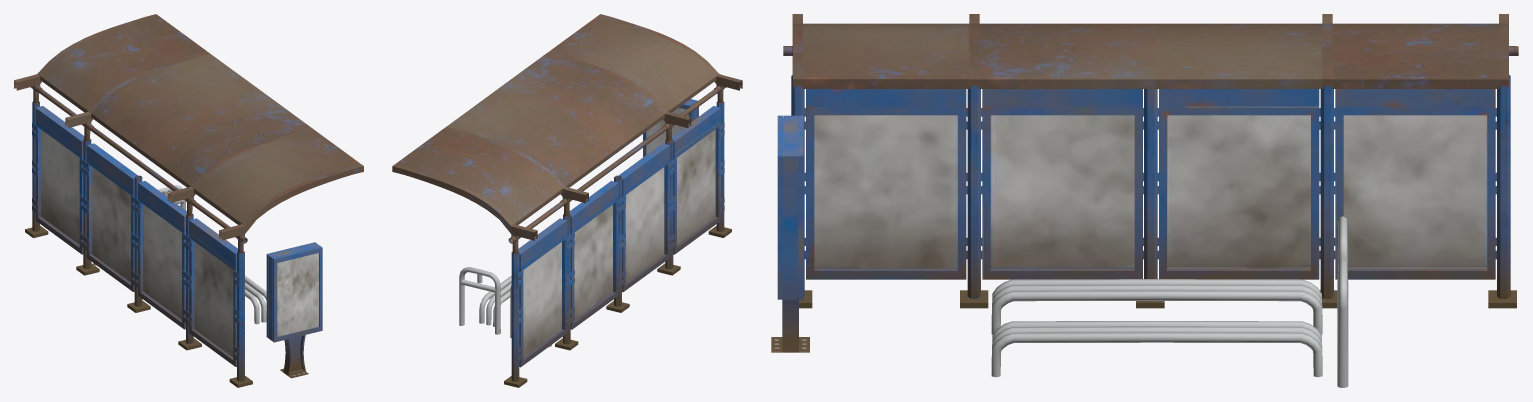
File: bus_stop.glb
3 views of the same model, side by side, from view 1: azimuth 30°, elevation 25°; view 2: azimuth 150°, elevation 25°; view 3: azimuth 270°, elevation 25° (orthographic). The views are drawn at different scales.
Parts seen in each view (by area): view 1: Roof.001, Cube.005, Plane.005, Cube.002, Circle.001, Plane.009, Circle.007, Plane.006, Seats.001; view 2: Roof.001, Cube.005, Cube.002, Circle.001, Plane.009, Cube.006, Circle.007, Plane.005, Seats.001; view 3: Cube.005, Roof.001, Seats.001, Circle.001, Cube.002, Plane.005, Plane.009, Cube.006, Plane.006.
Boxes of the visible parts, x1,y1,x2,y2 form: Roof.001: (14, 14, 363, 253); Cube.005: (35, 121, 236, 366); Plane.005: (266, 242, 322, 342); Cube.002: (35, 106, 237, 266); Circle.001: (32, 101, 244, 381); Plane.009: (25, 122, 252, 387); Circle.007: (38, 88, 230, 228); Plane.006: (280, 335, 308, 378); Seats.001: (245, 275, 266, 324); Roof.001: (392, 14, 742, 253); Cube.005: (519, 121, 720, 367); Cube.002: (518, 106, 720, 266); Circle.001: (511, 101, 724, 381); Plane.009: (504, 122, 731, 387); Cube.006: (459, 267, 551, 347); Circle.007: (526, 88, 718, 228); Plane.005: (643, 99, 698, 157); Seats.001: (479, 276, 511, 326); Cube.005: (806, 106, 1495, 279); Roof.001: (783, 14, 1518, 88); Seats.001: (991, 279, 1322, 377); Circle.001: (791, 75, 1510, 298); Cube.002: (806, 89, 1495, 106); Plane.005: (777, 115, 803, 299); Plane.009: (799, 108, 1516, 308); Cube.006: (1337, 216, 1348, 387); Plane.006: (771, 298, 809, 352).
Size of the model in its own units: 2.46 by 3.12 by 6.5.
Materials: 5 (4 with a texture image).
